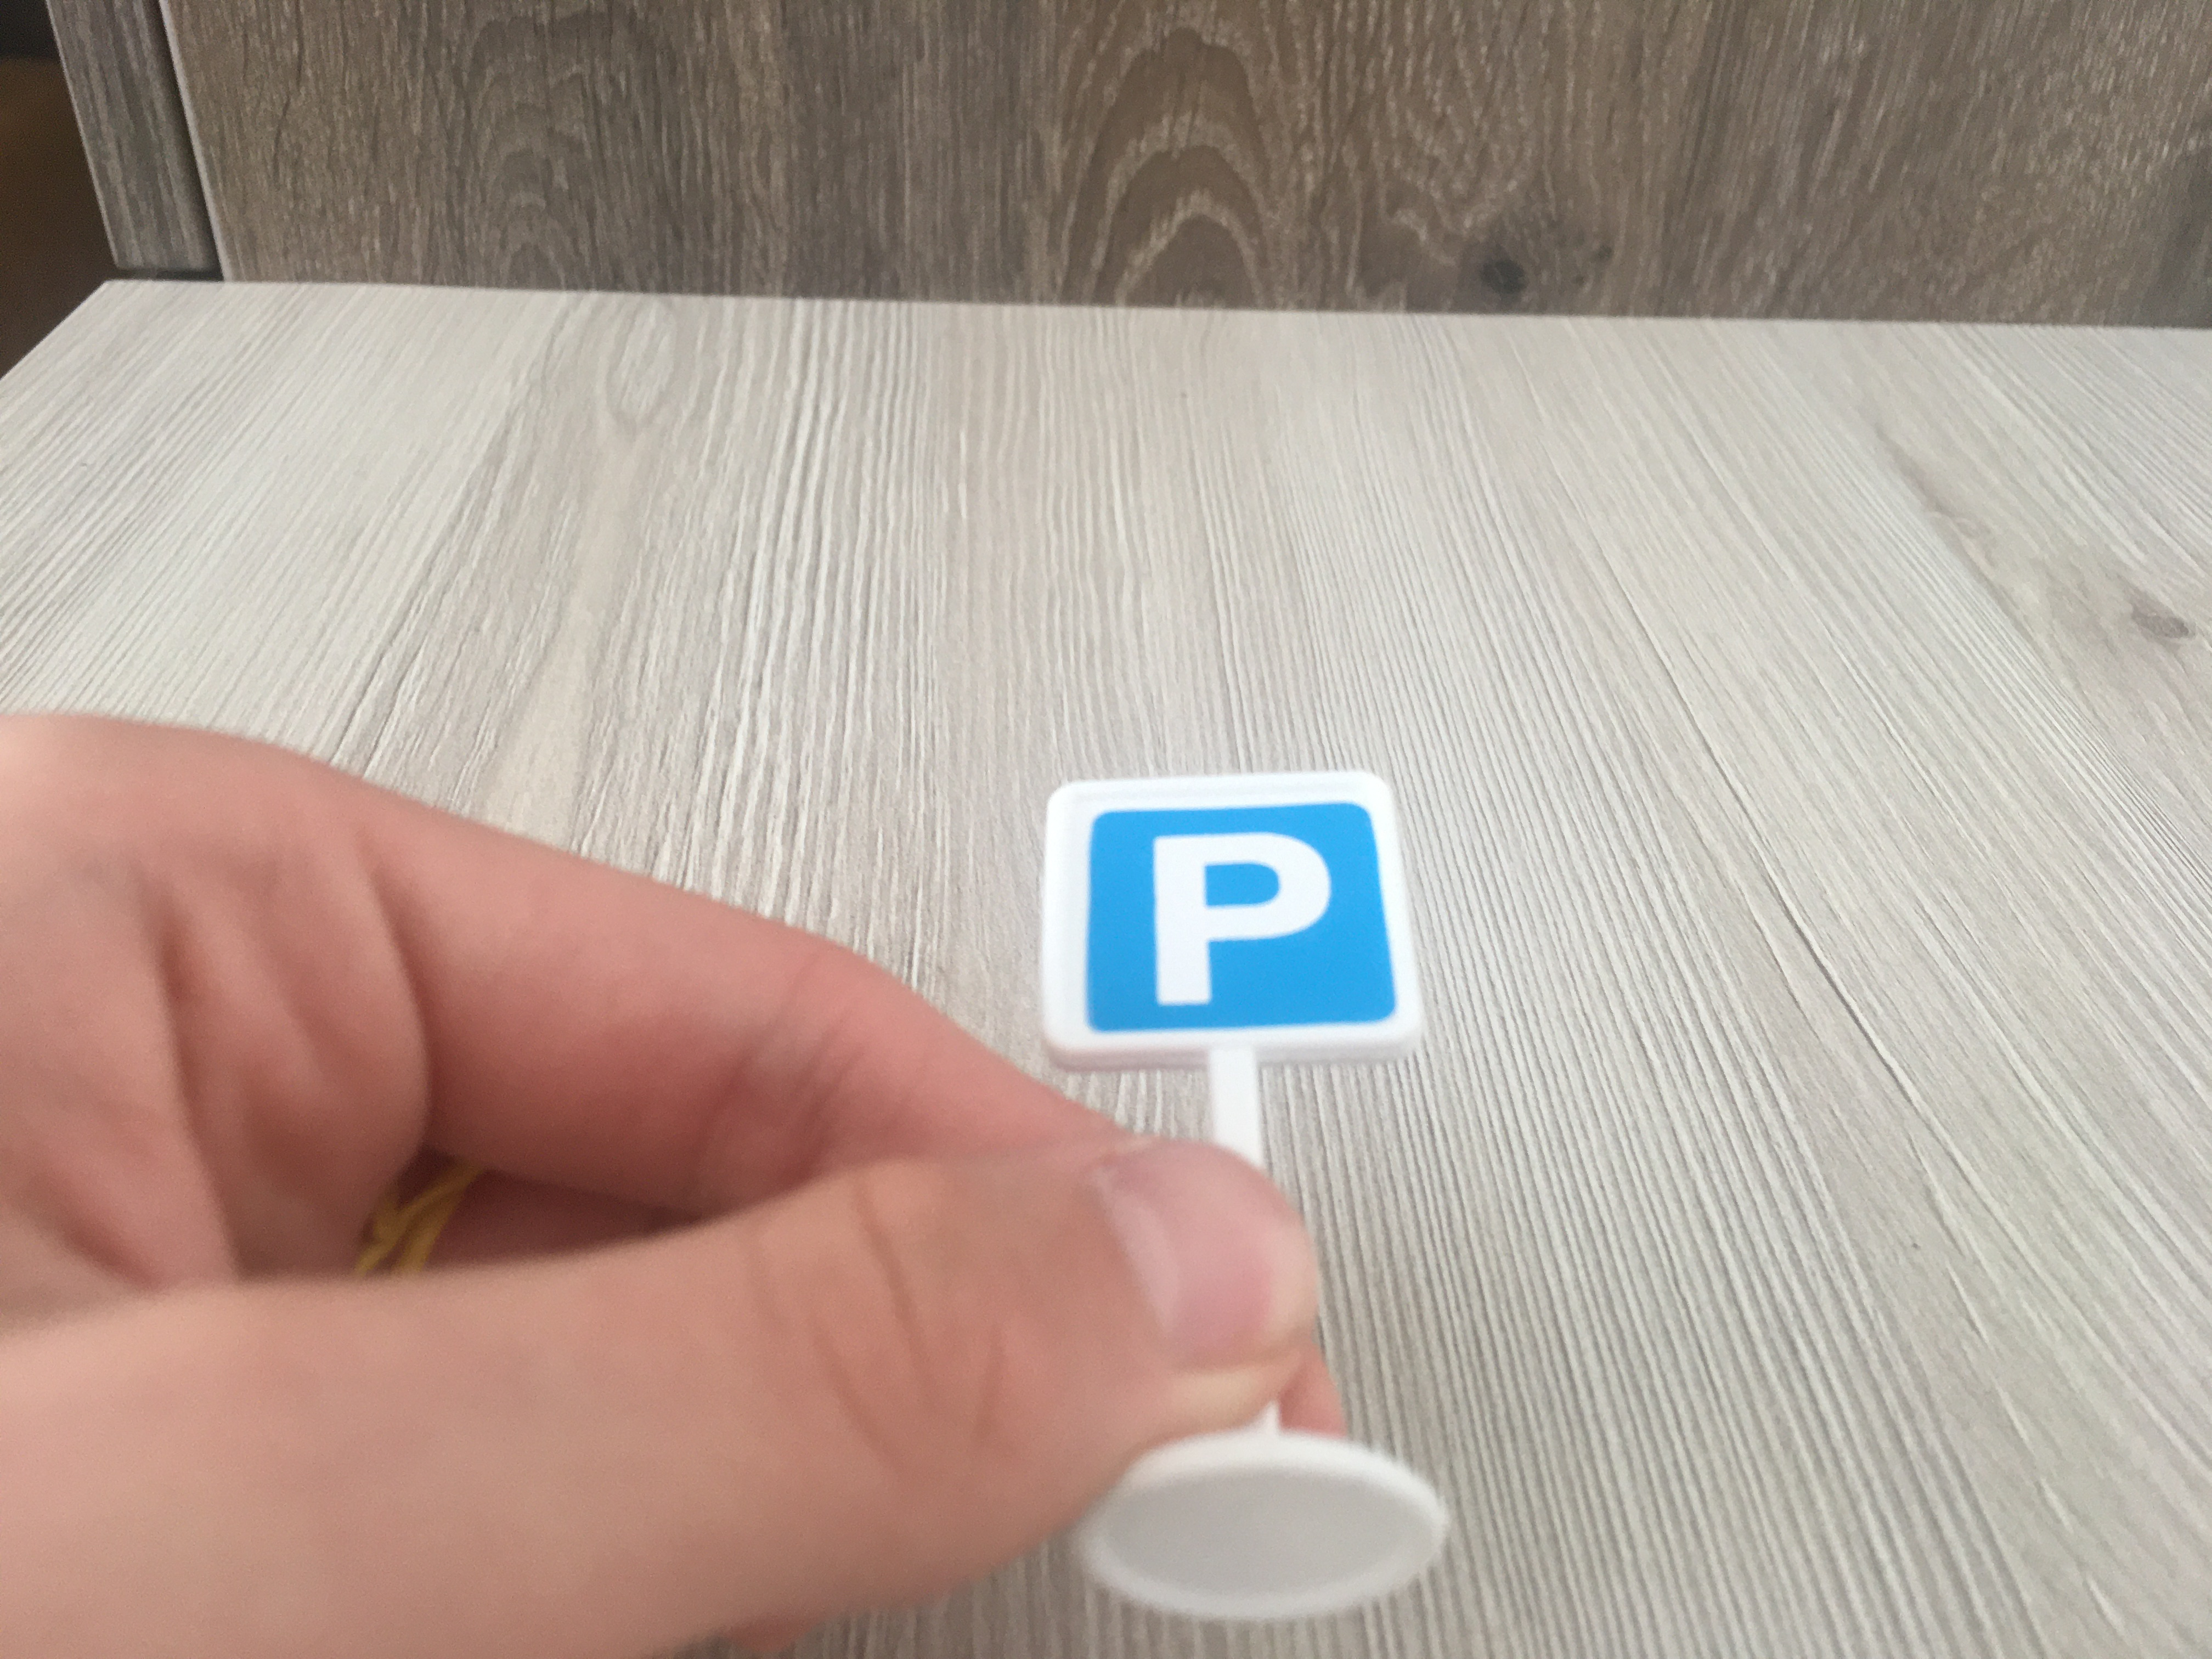parking: (1038, 781, 1421, 1047)
